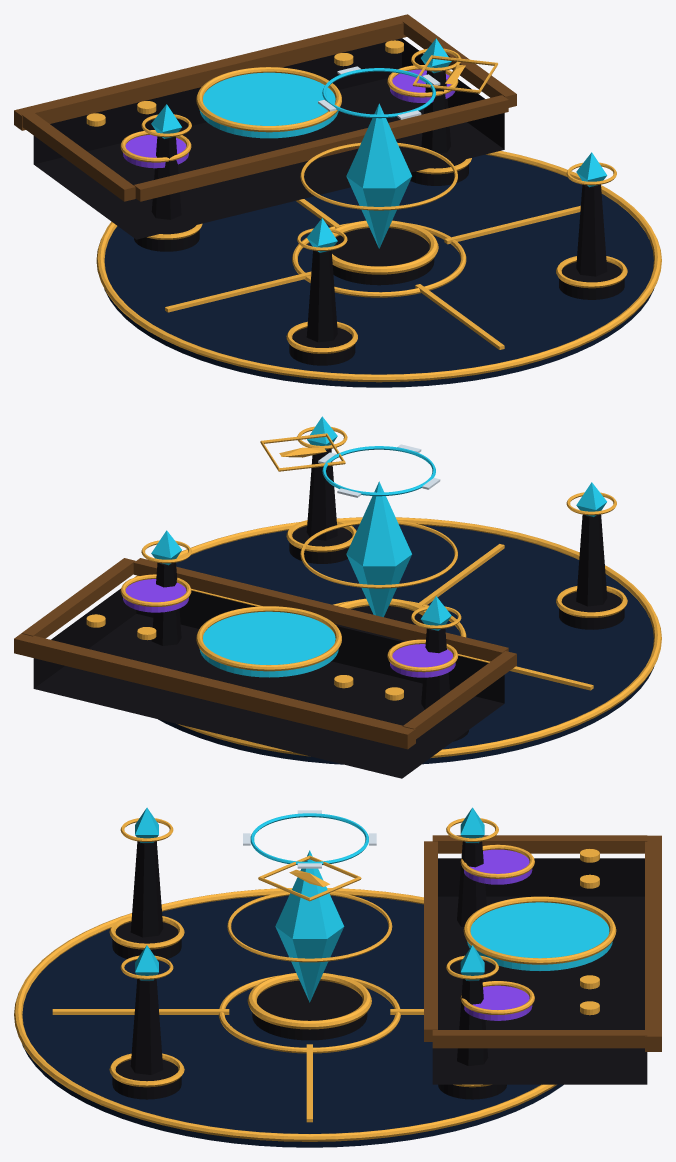
Rendered from vmt_mvp_modelkit_combined_showcase.obj.
3 renders of one model, top to bottom at view 1: azimuth 30°, elevation 25°; view 2: azimuth 150°, elevation 25°; view 3: azimuth 270°, elevation 25°, orthographic. The views are drawn at different scales.
Visible parts, largest first — view 1: VMT_MVP_ModelKit_Combined; view 2: VMT_MVP_ModelKit_Combined; view 3: VMT_MVP_ModelKit_Combined.
Boxes of the visible parts, x1,y1,x2,y2 form: VMT_MVP_ModelKit_Combined: (14,14,661,387); VMT_MVP_ModelKit_Combined: (14,416,661,778); VMT_MVP_ModelKit_Combined: (14,807,661,1147).
Size of the model in its own units: 7.71 by 2.73 by 8.45.
